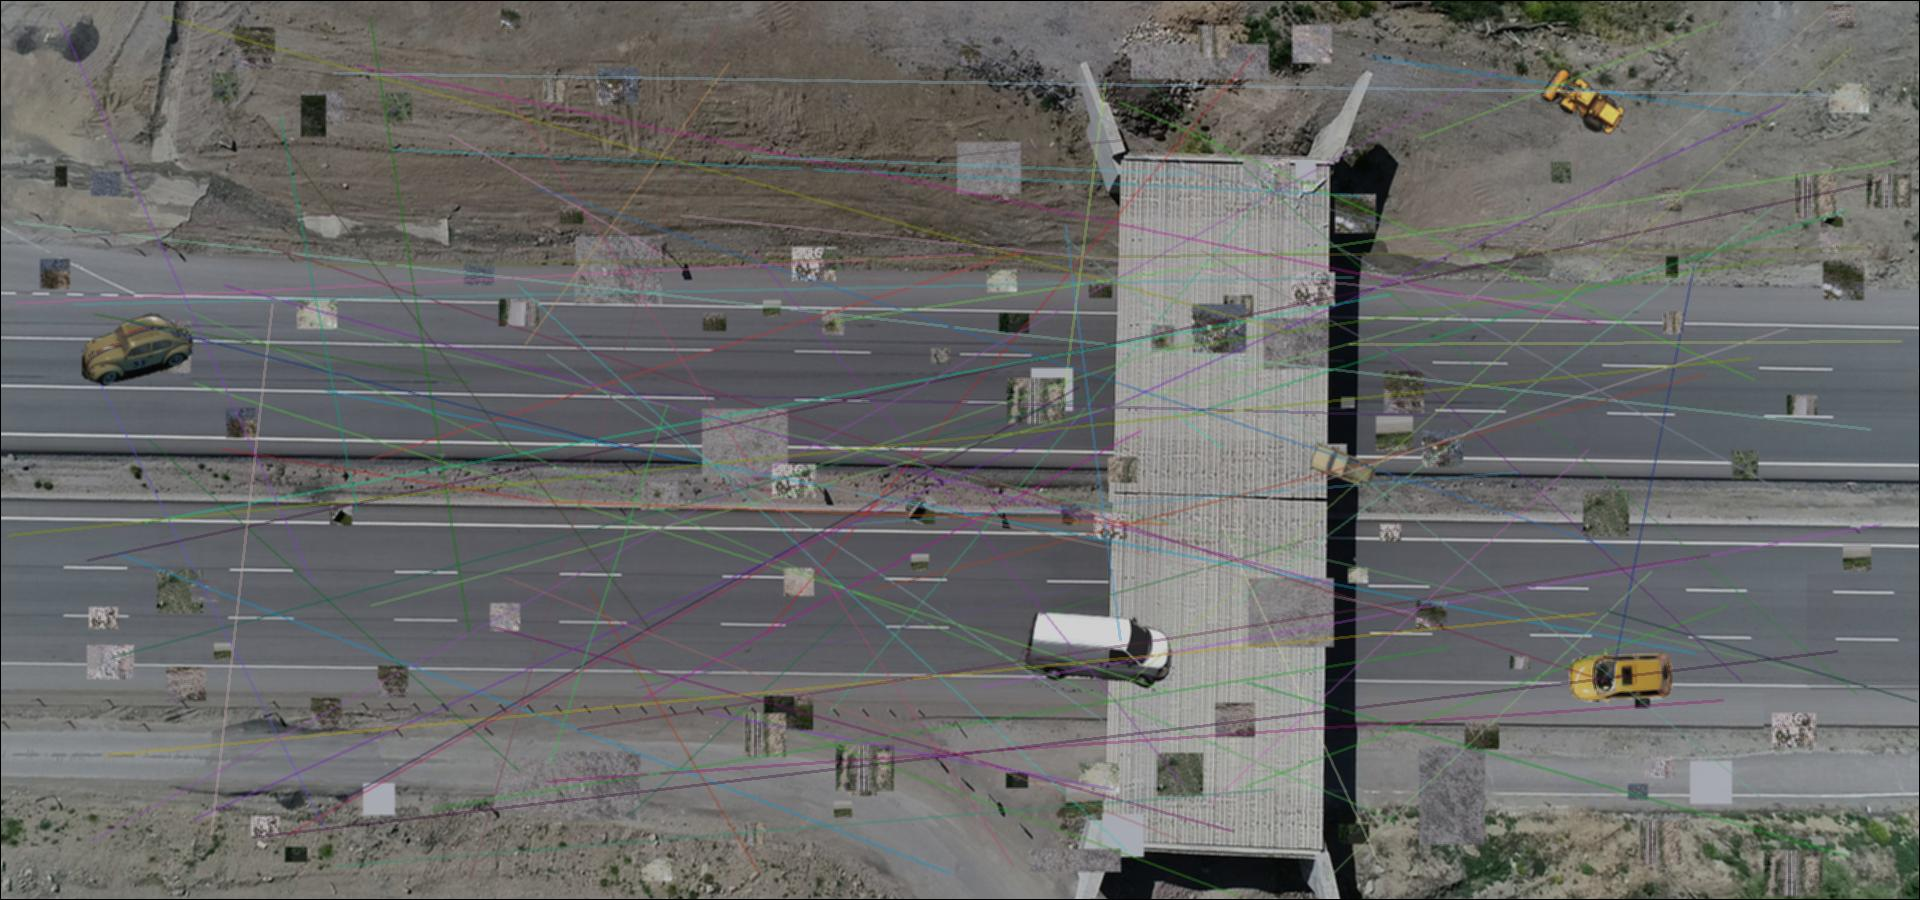arac: (1019, 611, 1176, 692), (82, 311, 193, 386), (1564, 649, 1680, 708), (1539, 69, 1630, 135), (1309, 443, 1378, 489)
